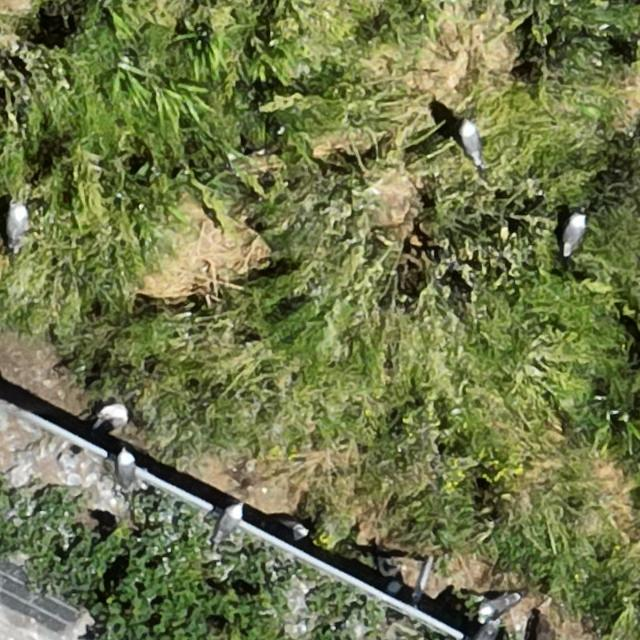umineko: (263, 517, 311, 542), (91, 404, 128, 434), (564, 214, 586, 253), (461, 127, 481, 165), (217, 508, 241, 539), (117, 451, 136, 490), (8, 205, 28, 242), (480, 596, 516, 616)
